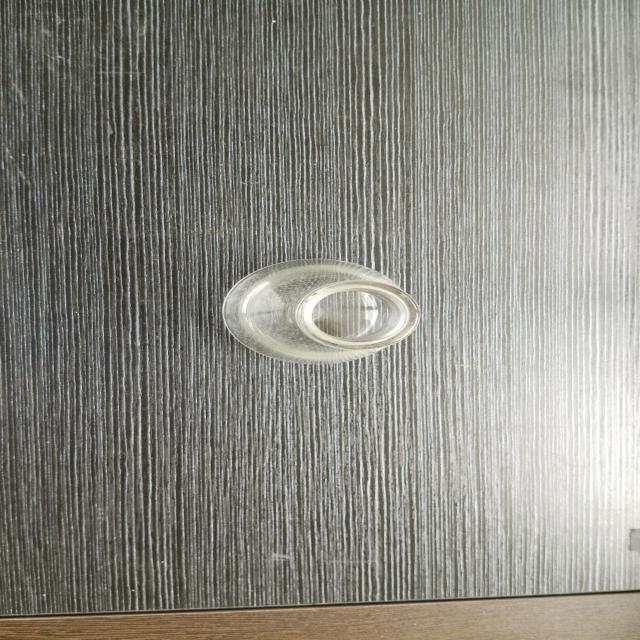erlenmeyer_flask: (210, 254, 432, 371)
